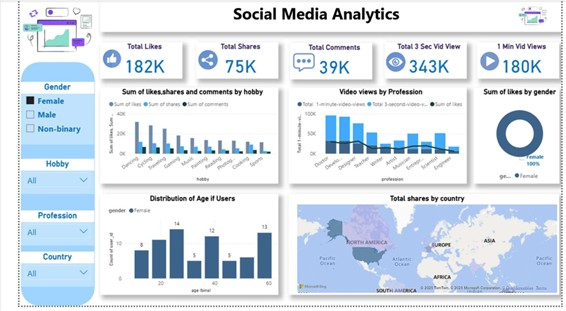

What the dashboard file says about the page in this screenshot:
{"tool":"powerbi","page":{"name":"Dashboard","canvas":[1280,720],"ordinal":0},"visuals":[{"type":"shape","box":[3.2,145.7,174.9,574.8],"z":0},{"type":"textbox","box":[191,0,1089.4,74.5],"z":1000},{"type":"image","box":[1173.6,0,77.7,74.5],"z":2000},{"type":"card","title":"Total Likes","fields":{"Values":["Sum(social_media_analysis.likes)"]},"box":[191,98.7,194.2,85.8],"z":3000},{"type":"image","box":[184.5,106.8,68,63.1],"z":4000},{"type":"card","title":"Total Shares","fields":{"Values":["Sum(social_media_analysis.shares)"]},"box":[418.2,98.7,194.2,85.8],"z":5000},{"type":"image","box":[406.9,108.5,77.7,61.5],"z":6000},{"type":"card","title":"Total Comments","fields":{"Values":["Sum(social_media_analysis.comments)"]},"box":[639.4,100.4,194.2,85.8],"z":7000},{"type":"image","box":[632.9,114.9,74.5,61.5],"z":8000},{"type":"card","title":"Total 3 Sec Vid View","fields":{"Values":["Sum(social_media_analysis.3-second-video-views)"]},"box":[862.8,98.7,194.2,85.8],"z":9000},{"type":"card","title":"1 Min Vid Views","fields":{"Values":["Sum(social_media_analysis.1-minute-video-views)"]},"box":[1080.9,98.1,194.2,85.8],"z":10000},{"type":"image","box":[851.4,113.3,69.6,61.5],"z":11000},{"type":"image","box":[1078.1,103.6,64.7,79.3],"z":12000},{"type":"clusteredColumnChart","title":"Sum of likes,shares and comments by hobby","fields":{"Category":["social_media_analysis.hobby"],"Y":["Sum(social_media_analysis.likes)","Sum(social_media_analysis.shares)","Sum(social_media_analysis.comments)"]},"box":[191,205.6,420.9,226.6],"z":13000},{"type":"lineStackedColumnComboChart","title":"Video views by Profession","fields":{"Category":["social_media_analysis.profession"],"Y":["Sum(social_media_analysis.1-minute-video-views)","Sum(social_media_analysis.3-second-video-views)"],"Y2":["Sum(social_media_analysis.likes)"]},"box":[636.2,205.6,420.9,226.6],"z":14000},{"type":"donutChart","fields":{"Category":["social_media_analysis.gender"],"Y":["Sum(social_media_analysis.likes)"]},"box":[1073.2,205.6,202.3,226.6],"z":15000},{"type":"columnChart","title":"Distribution of Age if Users","fields":{"Category":["social_media_analysis.age (bins)"],"Y":["CountNonNull(social_media_analysis.user_id)"],"Series":["social_media_analysis.gender"]},"box":[191,456.5,420.9,238],"z":16000},{"type":"slicer","title":"Gender","fields":{"Values":["social_media_analysis.gender"]},"box":[3.2,192.6,173.2,147.3],"z":17000},{"type":"slicer","title":"Hobby","fields":{"Values":["social_media_analysis.hobby"]},"box":[3.2,373.9,173.2,82.6],"z":18000},{"type":"slicer","title":"Profession","fields":{"Values":["social_media_analysis.profession"]},"box":[3.2,495.3,173.2,82.6],"z":19000},{"type":"filledMap","title":"Total shares by country","fields":{"Category":["social_media_analysis.country"]},"box":[636.2,456.5,639.4,238],"z":20000},{"type":"slicer","title":"Country","fields":{"Values":["social_media_analysis.country"]},"box":[3.2,592.5,173.2,82.6],"z":21000},{"type":"image","box":[0,0,178.1,142.5],"z":22000}]}

Visuals, with their boxes in screenshot pixels (x1, y1, x2, y2), scaled from the page's 1280x720 canvas onto the 566x311 screenshot:
shape: rect(1, 63, 79, 310)
textbox: rect(84, 0, 565, 32)
image: rect(519, 0, 553, 32)
"Total Likes" card: rect(84, 43, 170, 80)
image: rect(82, 46, 112, 73)
"Total Shares" card: rect(185, 43, 271, 80)
image: rect(180, 47, 214, 73)
"Total Comments" card: rect(283, 43, 369, 80)
image: rect(280, 50, 313, 76)
"Total 3 Sec Vid View" card: rect(382, 43, 467, 80)
"1 Min Vid Views" card: rect(478, 42, 564, 79)
image: rect(376, 49, 407, 76)
image: rect(477, 45, 505, 79)
"Sum of likes,shares and comments by hobby" clusteredColumnChart: rect(84, 89, 271, 187)
"Video views by Profession" lineStackedColumnComboChart: rect(281, 89, 467, 187)
donutChart - social_media_analysis.gender x Sum(social_media_analysis.likes): rect(475, 89, 564, 187)
"Distribution of Age if Users" columnChart: rect(84, 197, 271, 300)
"Gender" slicer: rect(1, 83, 78, 147)
"Hobby" slicer: rect(1, 162, 78, 197)
"Profession" slicer: rect(1, 214, 78, 250)
"Total shares by country" filledMap: rect(281, 197, 564, 300)
"Country" slicer: rect(1, 256, 78, 292)
image: rect(0, 0, 79, 62)
